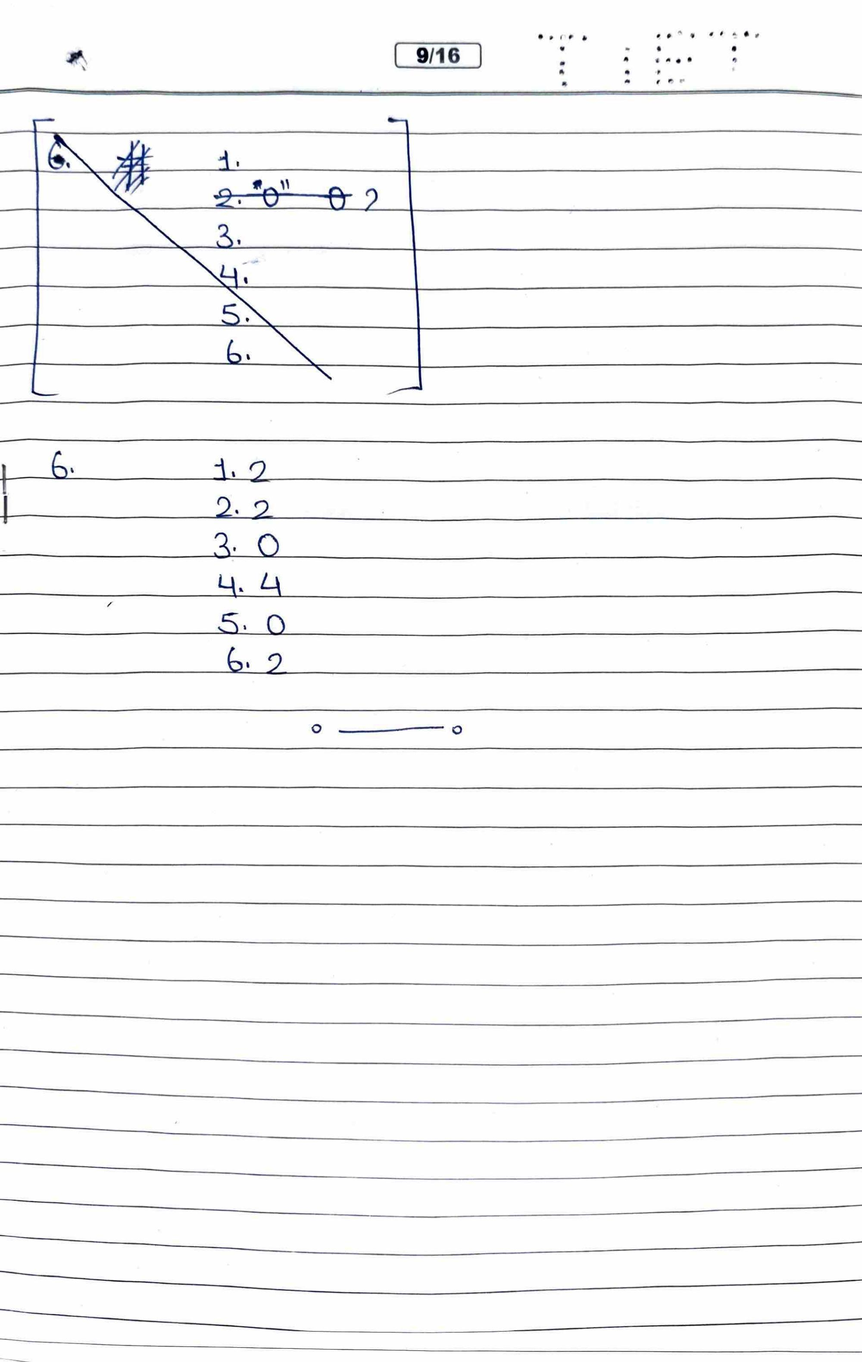cuttings: (46, 128, 380, 384)
